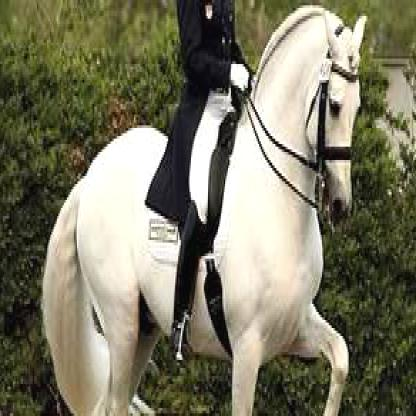horse: (37, 6, 369, 414)
